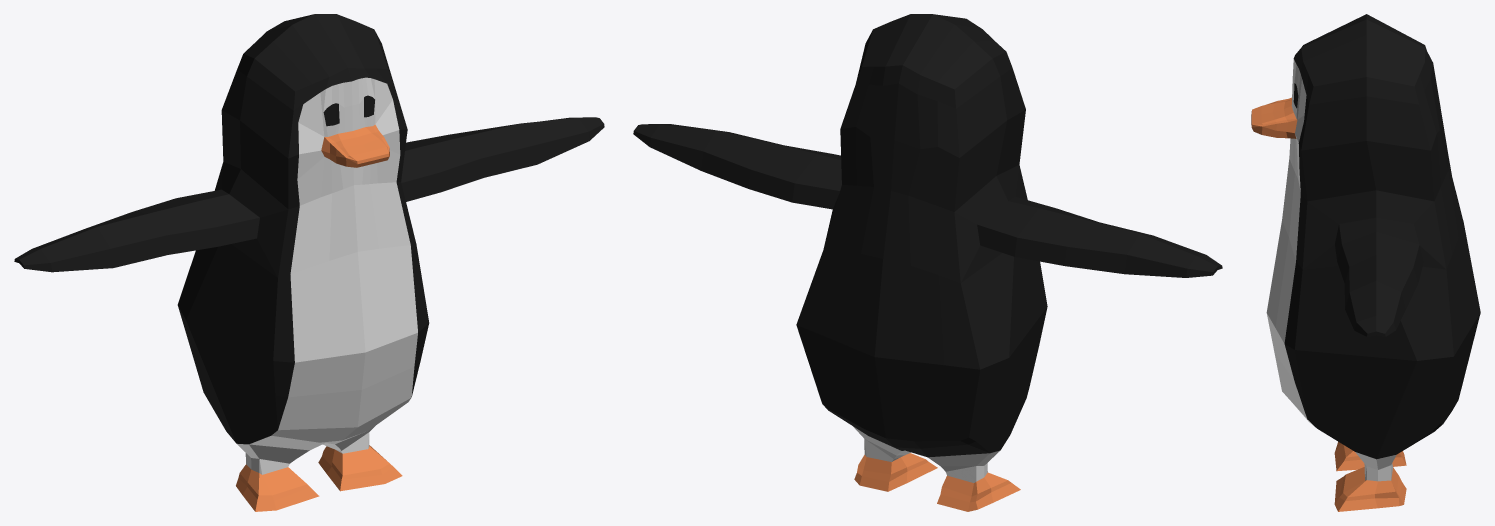
File: penguin.glb
3 renders of one model, left to right at view 1: azimuth 30°, elevation 25°; view 2: azimuth 150°, elevation 25°; view 3: azimuth 270°, elevation 25°, orthographic. The views are drawn at different scales.
Visible parts, largest first — view 1: Base; view 2: Base; view 3: Base.
Part boxes in pixels (left/top/right/bottom): Base: left=14, top=14, right=604, bottom=511; Base: left=633, top=14, right=1222, bottom=511; Base: left=1251, top=14, right=1480, bottom=511.
Size of the model in its own units: 3.9 by 3.03 by 1.37.
